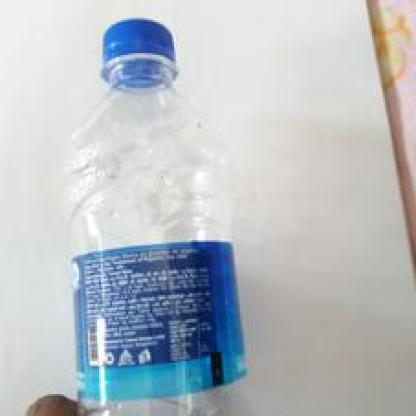bottle: (61, 16, 261, 415)
